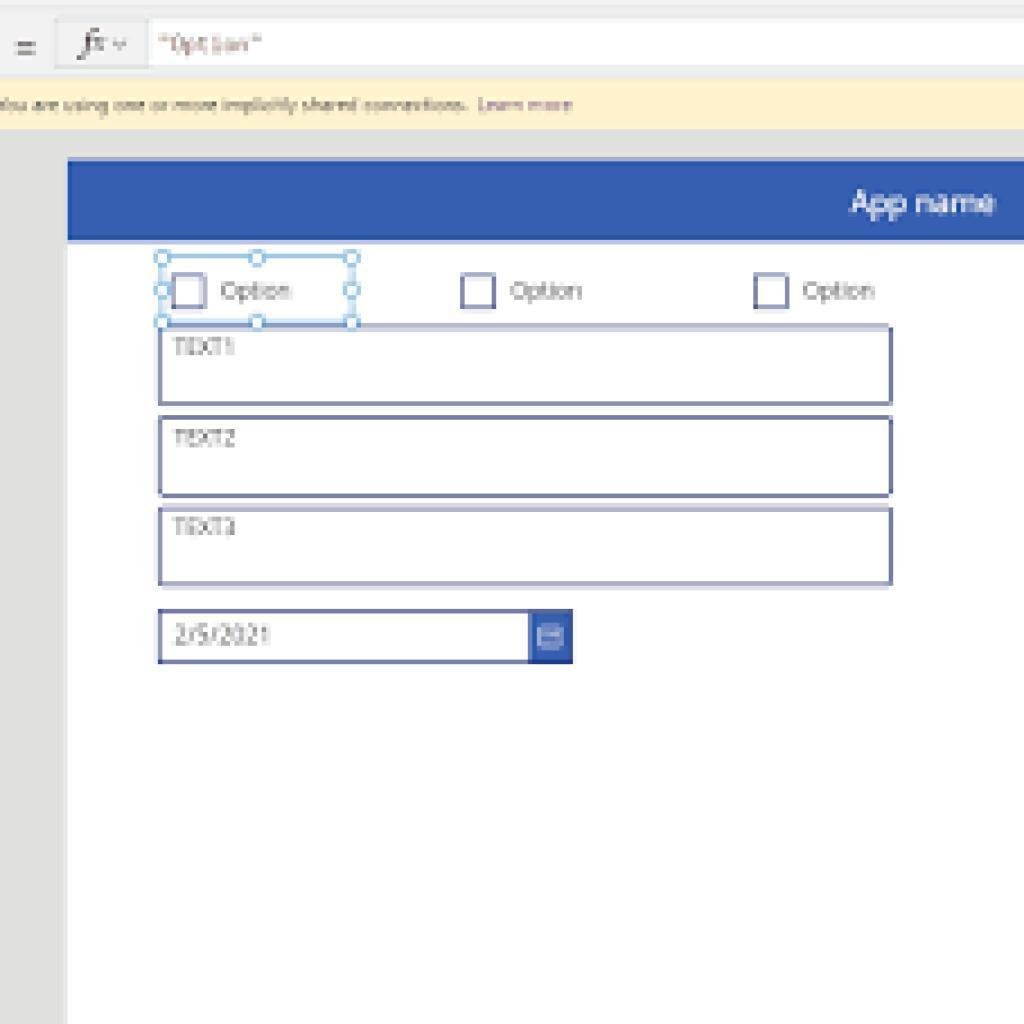checkbox: (753, 272, 793, 313), (459, 272, 498, 313), (172, 271, 209, 311)
dropdown: (55, 18, 147, 67)
icon: (535, 621, 568, 654), (10, 32, 42, 61)
input: (160, 416, 895, 499), (160, 325, 895, 405), (160, 506, 893, 584), (147, 21, 1024, 67), (158, 610, 530, 662)
label: (798, 278, 881, 309), (507, 277, 593, 306), (221, 278, 296, 309)
